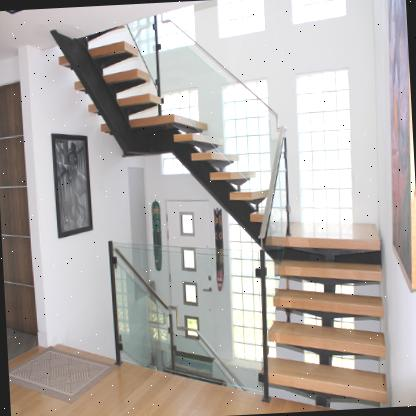stair: (254, 214, 390, 413)
